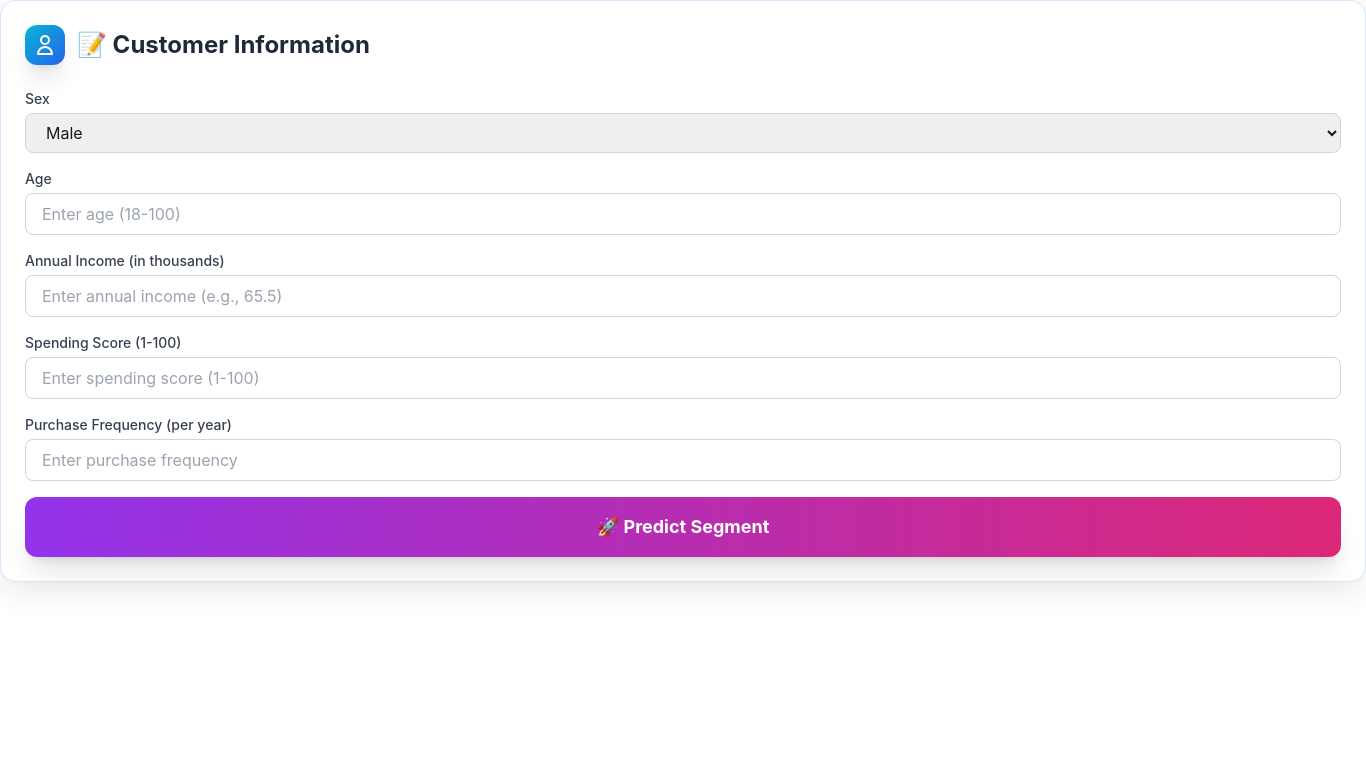
Scenario: CustomerForm › validates age range
// Test age too low
In the number field labelled "Age": [683, 214] box [25,193,1341,235], type "15"
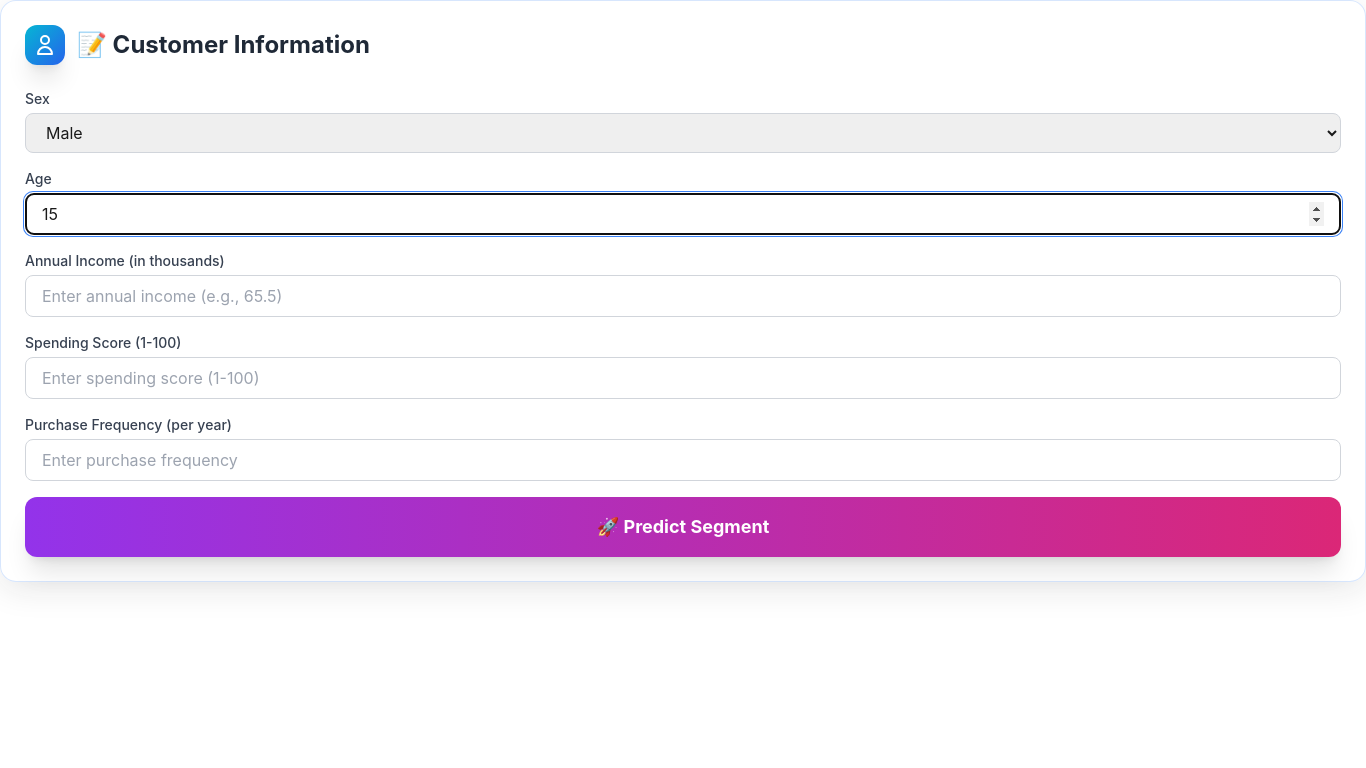
Click the button "🚀 Predict Segment": [683, 527] box [25,497,1341,557]
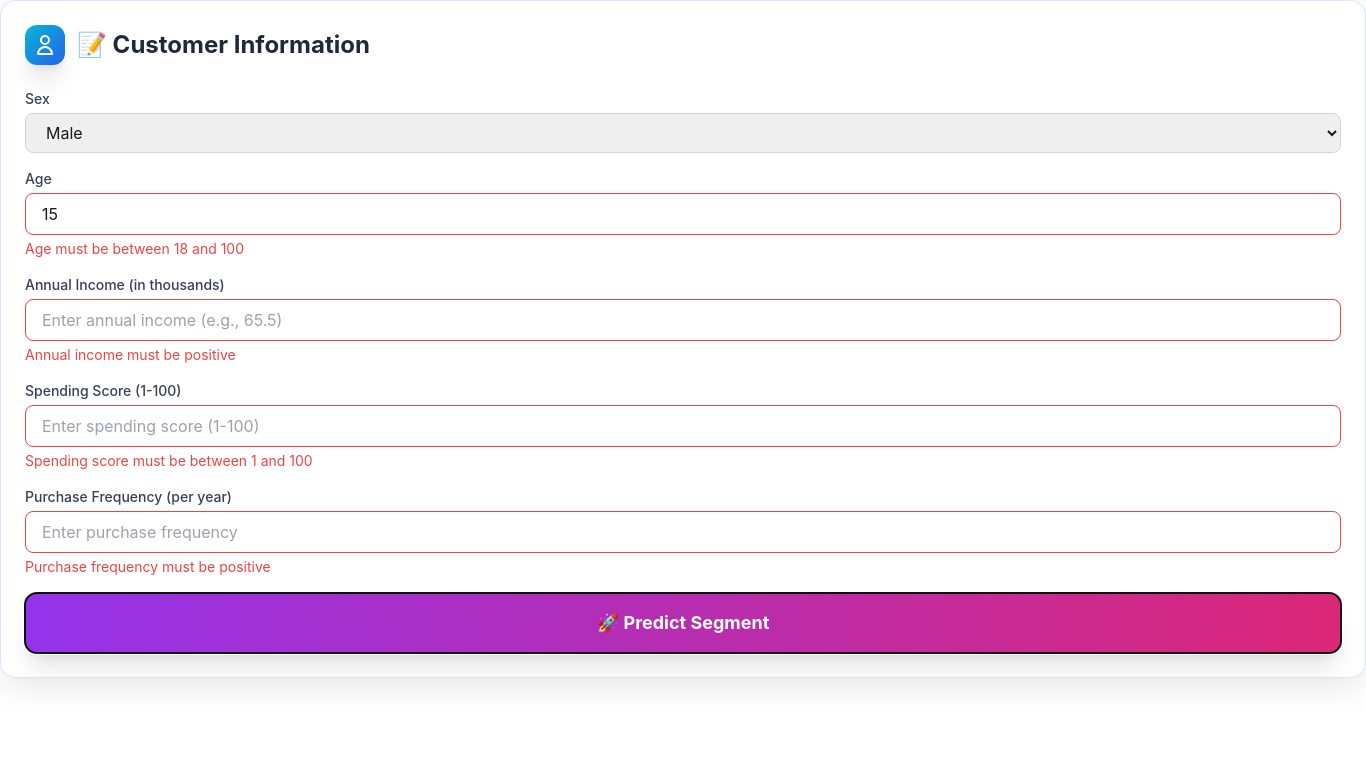
Now the text "Age must be between 18 and 100" is shown, box [25,240,244,257]
// Test age too high
Replace the text in the number field labelled "Age" with "150": [683, 214] box [25,193,1341,235]
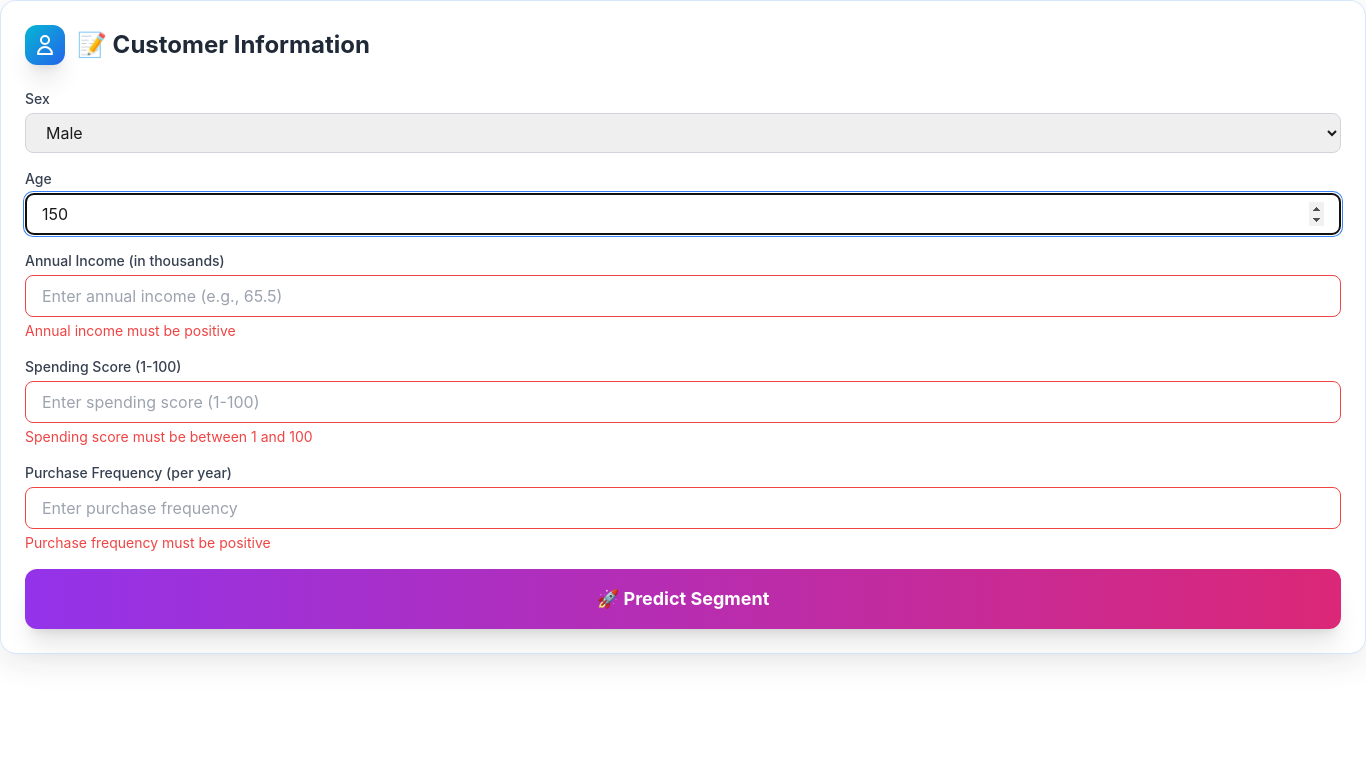
Click the button "🚀 Predict Segment": [683, 599] box [25,569,1341,629]
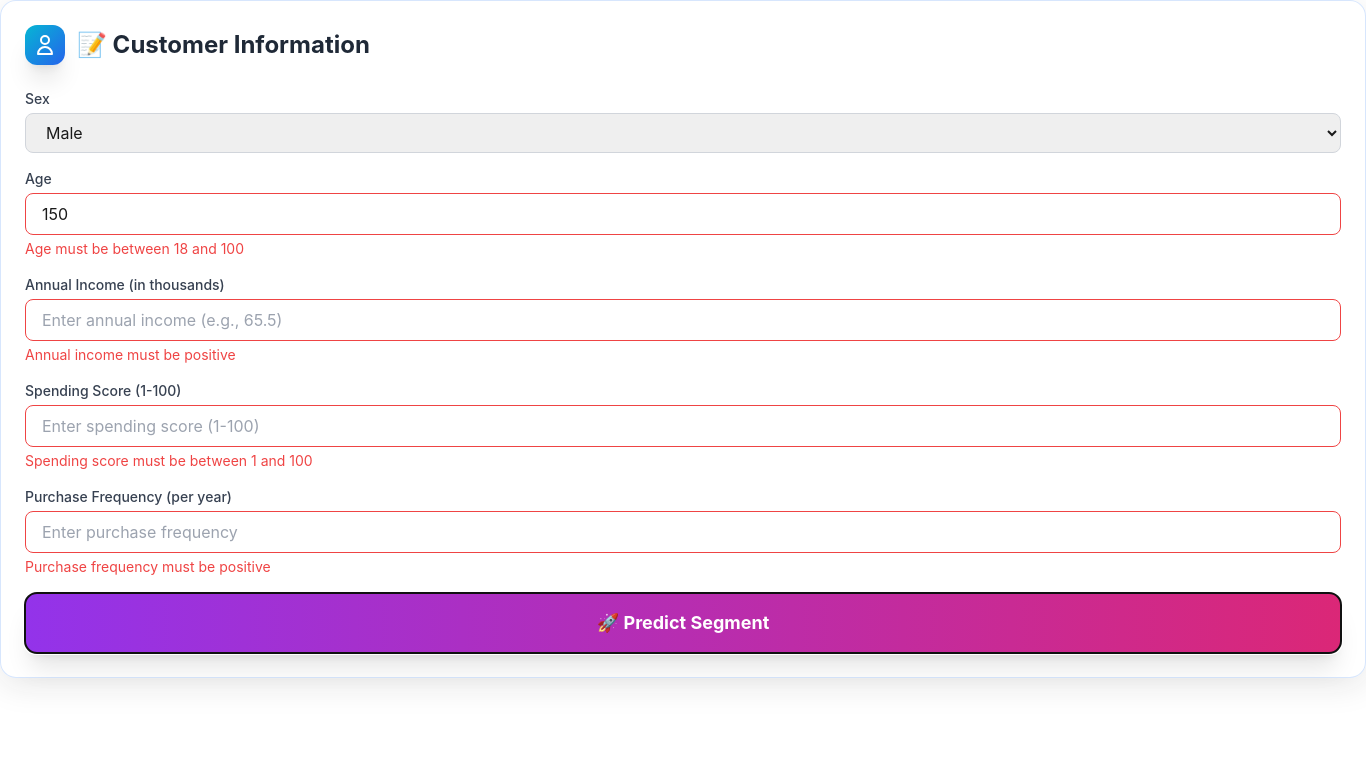
Now the text "Age must be between 18 and 100" is shown, box [25,240,244,257]
